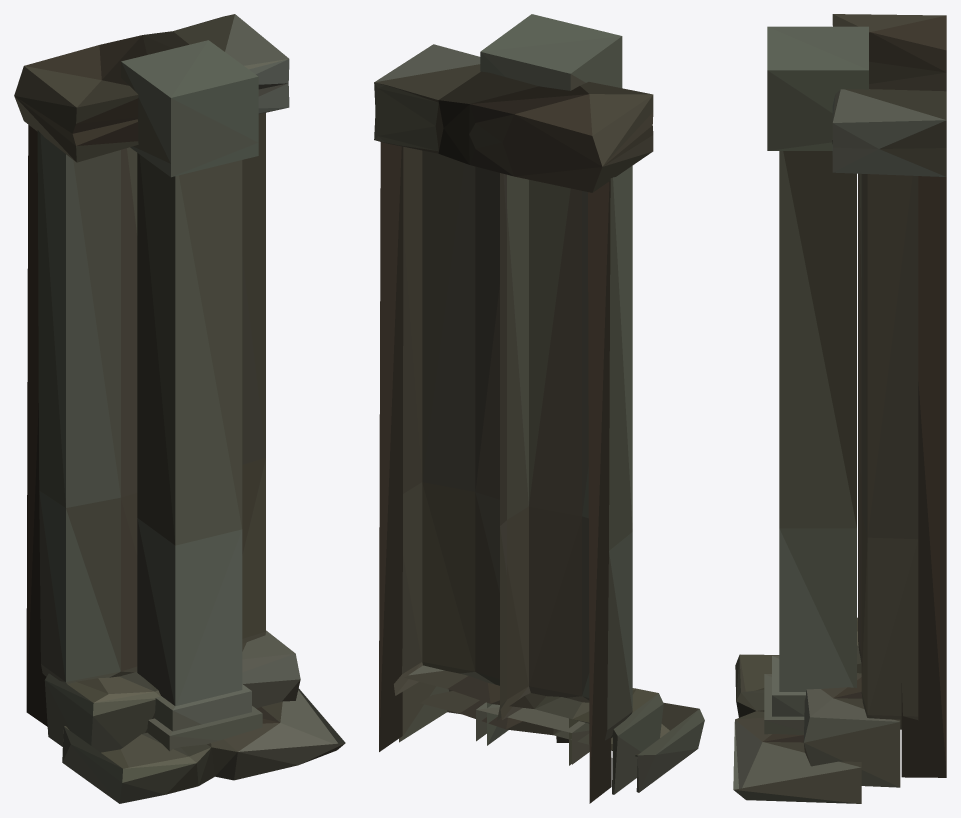
Rendered from wall_A_2m.fbx.
3 views of the same model, side by side, from view 1: azimuth 30°, elevation 25°; view 2: azimuth 150°, elevation 25°; view 3: azimuth 270°, elevation 25° (orthographic). The views are drawn at different scales.
Parts seen in each view (by area): view 1: wall_A_2m; view 2: wall_A_2m; view 3: wall_A_2m.
Part boxes in pixels (x1,y1,x2,y2): wall_A_2m: [14, 14, 345, 803]; wall_A_2m: [374, 14, 704, 803]; wall_A_2m: [733, 14, 946, 803].
Bounding box in the file's own units: 2.27 × 6.43 × 1.79.
